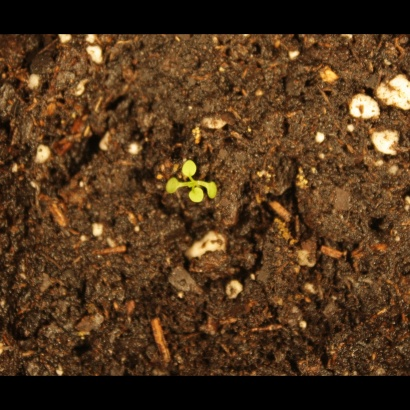leaf: (159, 174, 182, 197), (179, 155, 202, 178), (182, 187, 205, 210), (205, 178, 228, 201)
